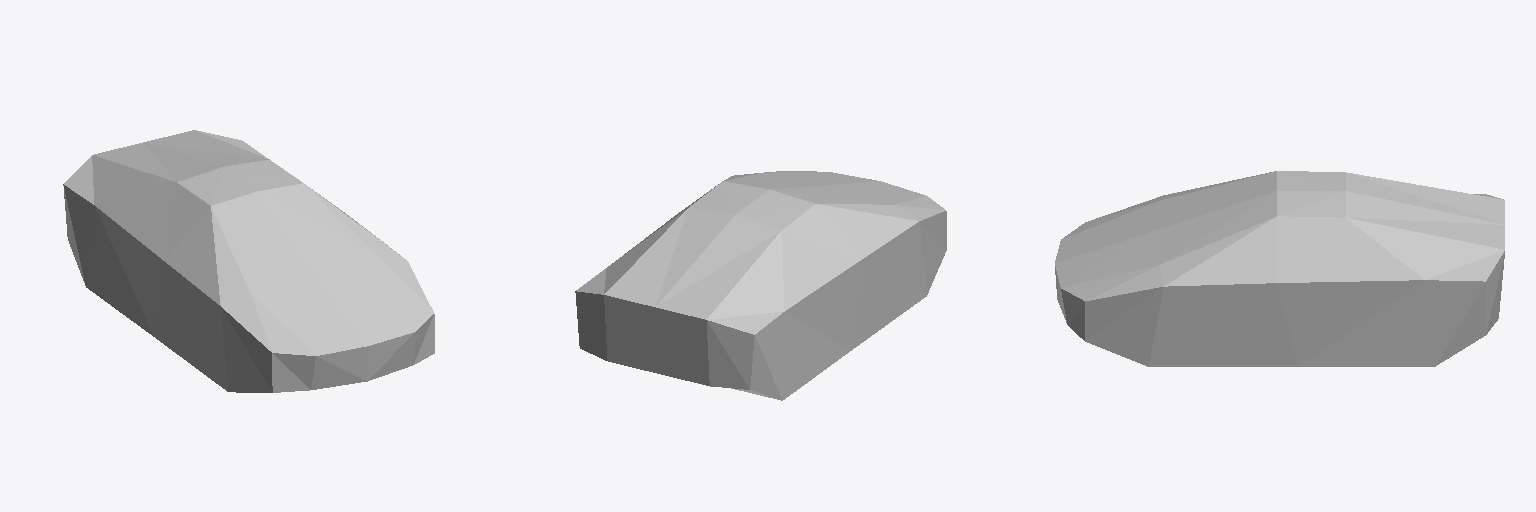
File: car_collider.obj
3 views of the same model, side by side, from view 1: azimuth 30°, elevation 25°; view 2: azimuth 150°, elevation 25°; view 3: azimuth 270°, elevation 25° (orthographic).
Parts seen in each view (by area): view 1: collider; view 2: collider; view 3: collider.
Boxes of the visible parts, x1=… form: collider: x1=63, y1=130, x2=434, y2=392; collider: x1=575, y1=171, x2=946, y2=400; collider: x1=1055, y1=171, x2=1504, y2=366.
Size of the model in its own units: 1.42 by 0.9535 by 2.97.